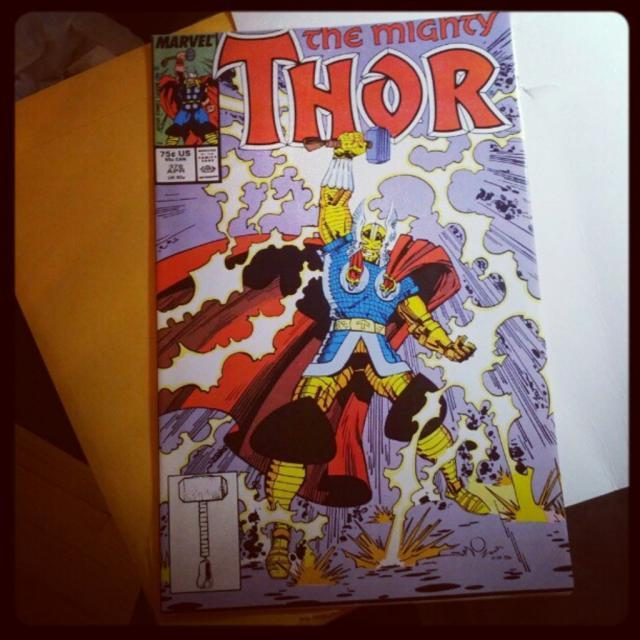book: (146, 10, 575, 606)
